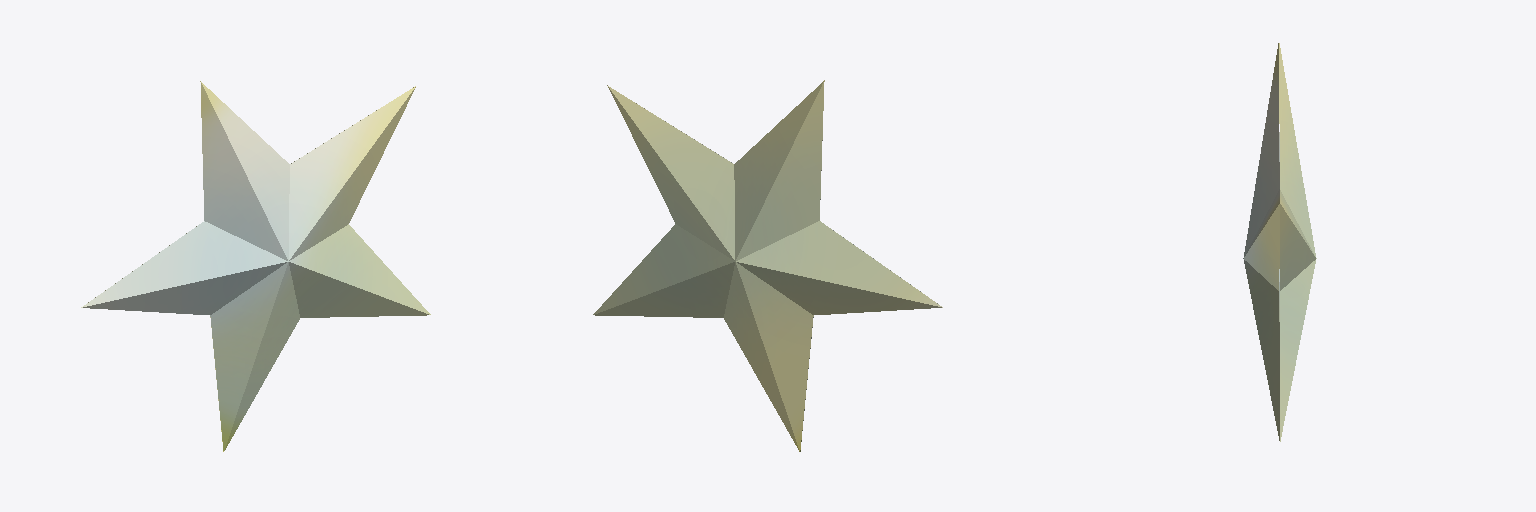
The picture shows the model from 3 angles: view 1: azimuth 30°, elevation 25°; view 2: azimuth 150°, elevation 25°; view 3: azimuth 270°, elevation 25°; orthographic projection.
Parts seen in each view (by area): view 1: effectstar; view 2: effectstar; view 3: effectstar.
Boxes of the visible parts, box(x1,y1,x2,y2) form: effectstar: box(81, 81, 430, 451); effectstar: box(593, 80, 942, 451); effectstar: box(1243, 43, 1316, 441).
Bounding box in the file's own units: 0.9218 × 0.949 × 0.1663.
Materials: 1 (1 with a texture image).